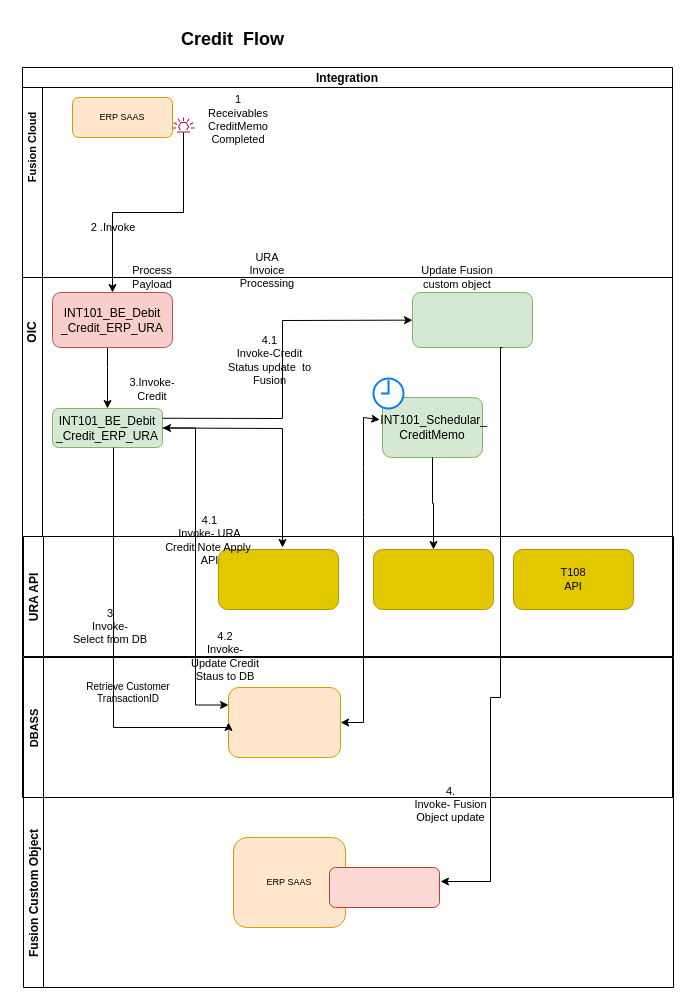
Image size: 691x1005. Some labels were removed from this diagram. The centre of each missing label's shape, as x and y in pixels:
"Custom Object" goes at (384,887).
"INT101_Fusion_ Processing_URA_ERP" goes at (472,320).
"Oracle DBAAS" goes at (284,722).
"T110 API" goes at (278,579).
"T111 API" goes at (433,579).
